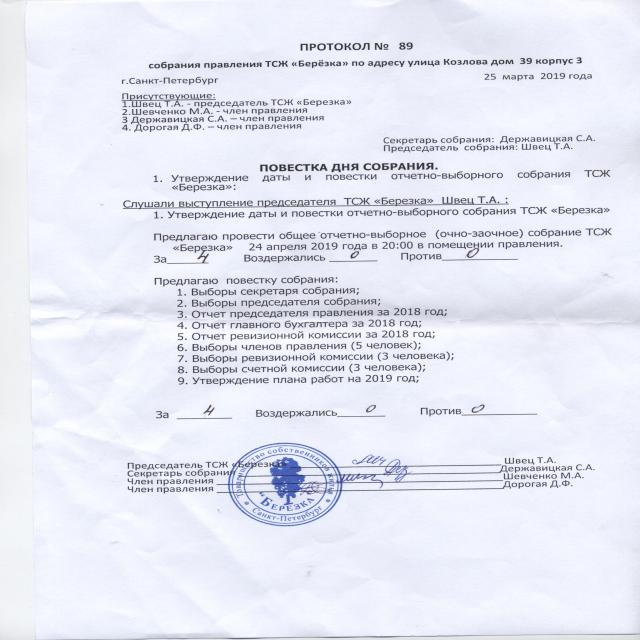stamps: (212, 433, 409, 529)
